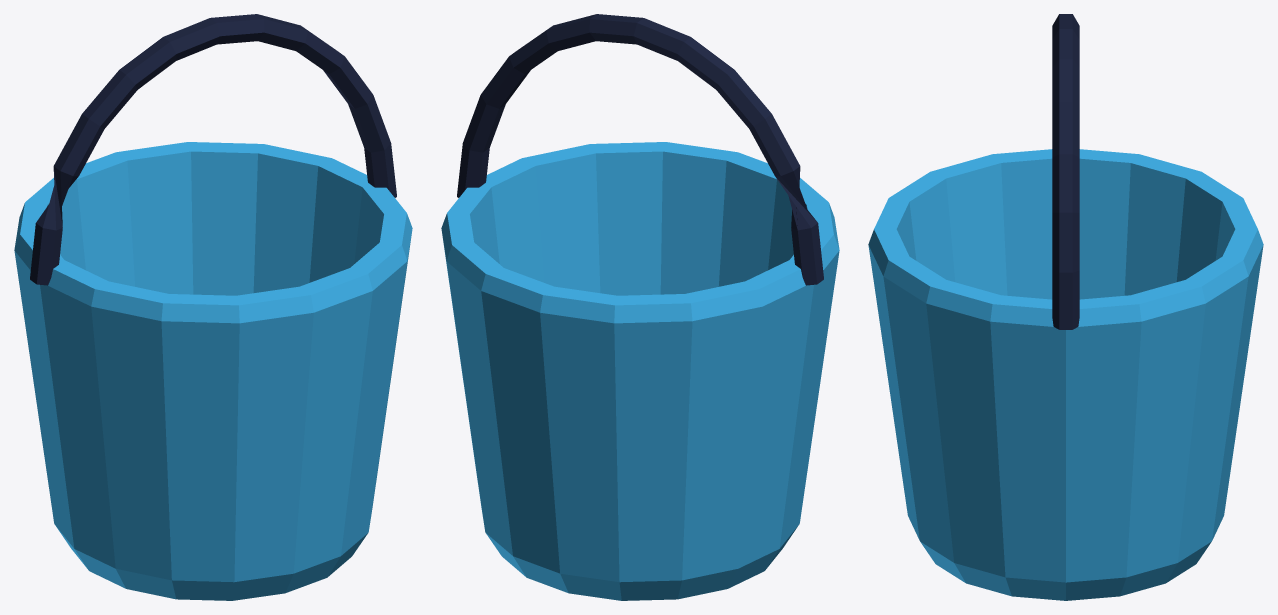
Rendered from P_bucket.glb.
3 views of the same model, side by side, from view 1: azimuth 30°, elevation 25°; view 2: azimuth 150°, elevation 25°; view 3: azimuth 270°, elevation 25° (orthographic).
Parts seen in each view (by area): view 1: Bucket, Handle; view 2: Bucket, Handle; view 3: Bucket, Handle.
Boxes of the visible parts, box(x1,y1,x2,y2) form: Bucket: box(14, 142, 412, 600); Handle: box(30, 14, 396, 285); Bucket: box(441, 142, 839, 600); Handle: box(457, 14, 823, 285); Bucket: box(868, 149, 1263, 600); Handle: box(1052, 14, 1079, 329).
Bounding box in the file's own units: 0.3627 × 0.5004 × 0.35.
